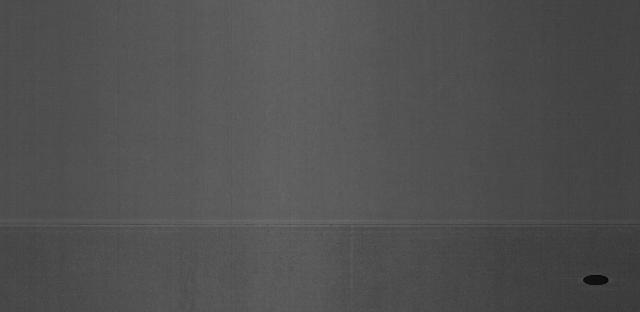punching_hole: (580, 269, 612, 290)
welding_line: (4, 208, 638, 237)
